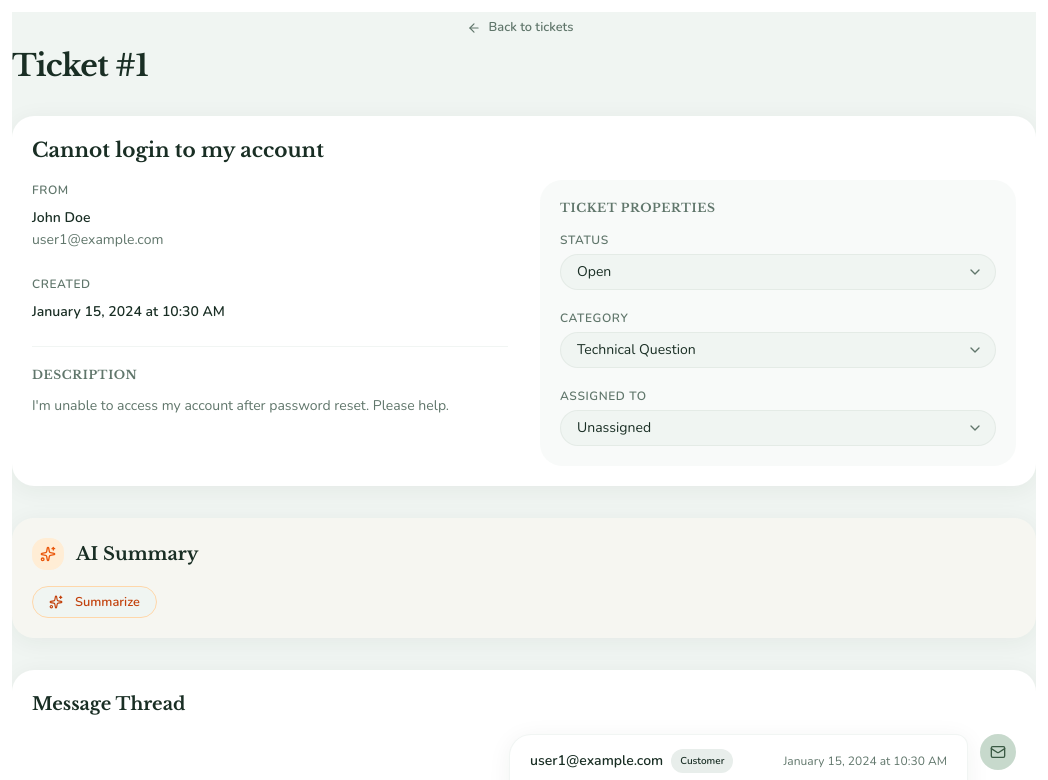
TicketDetailPage › Agent Selection Dropdown › should display agent name or email fallback when name is null
Click the dropdown named "select an agent": (614, 428) [560,410,996,446]
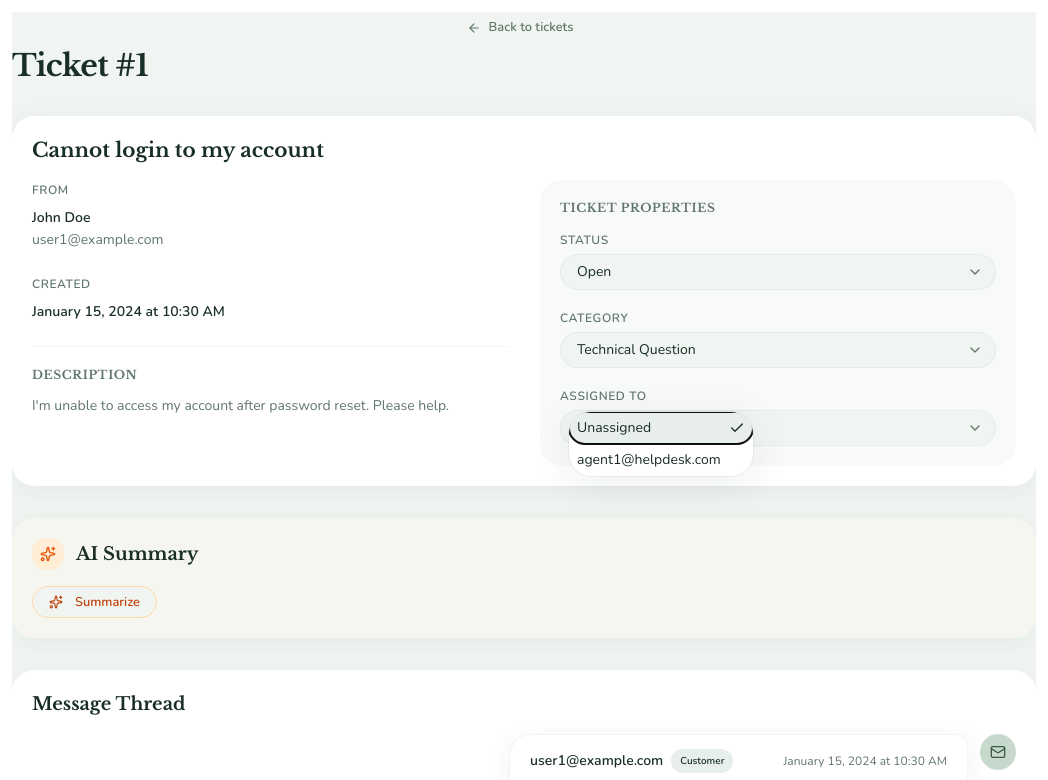
Check: the option "agent1@helpdesk.com" is shown, box [577,450,721,469]
